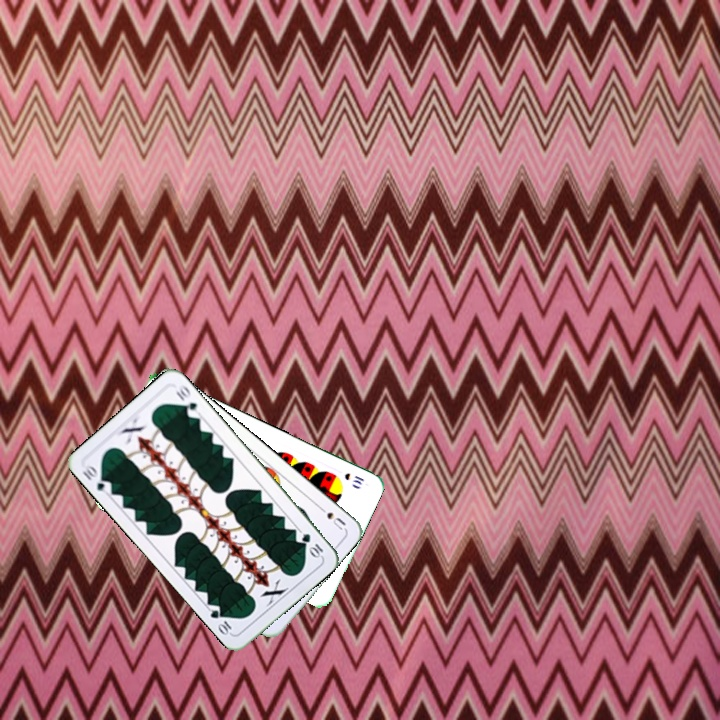G10: (78, 460, 115, 497), (297, 529, 326, 560)
S10: (340, 469, 367, 487)
SU: (314, 502, 348, 533)
